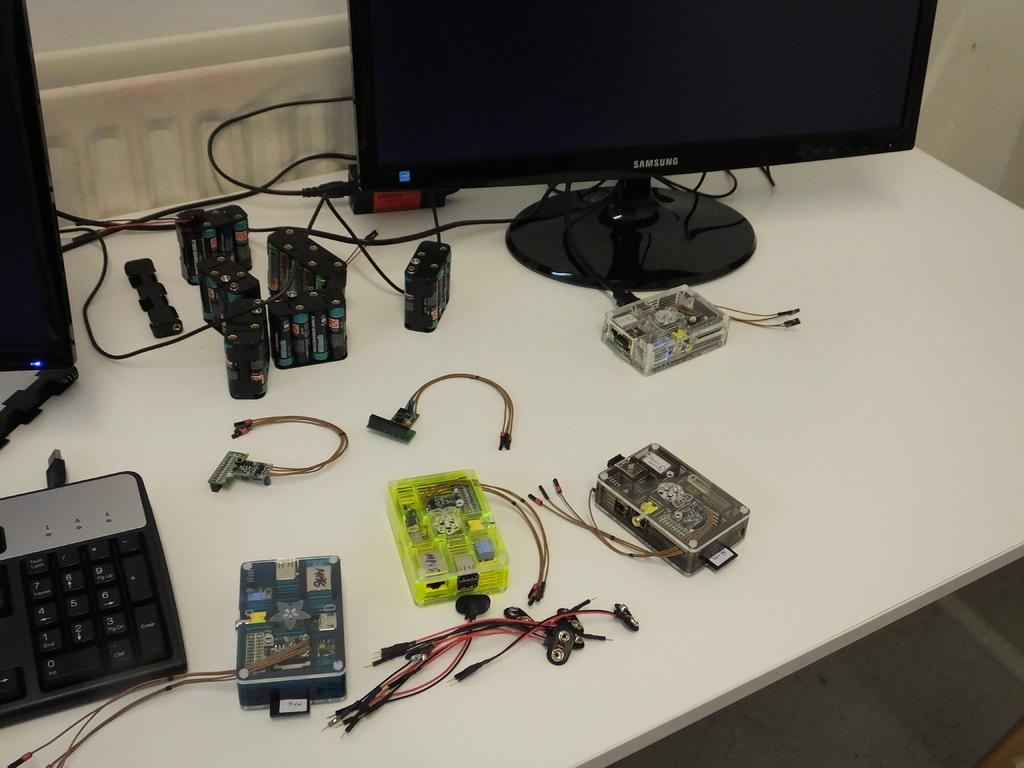Computer-keyboard: (0, 467, 188, 729)
